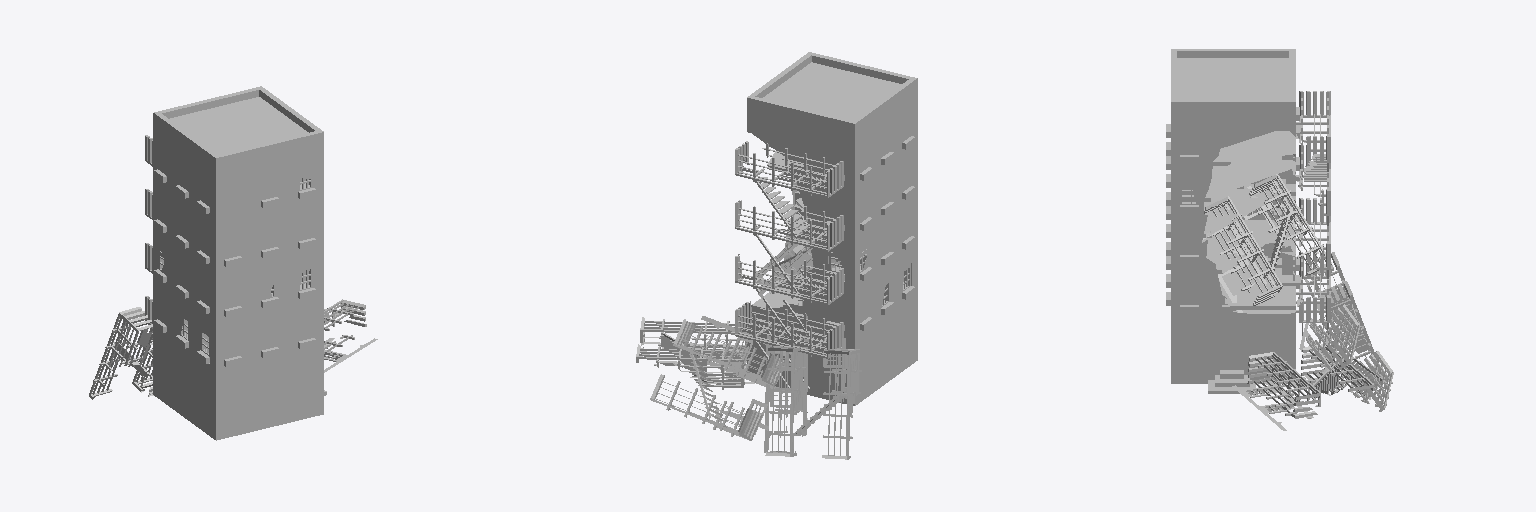
The model's file is Building 1.obj.
3 renders of one model, left to right at view 1: azimuth 30°, elevation 25°; view 2: azimuth 150°, elevation 25°; view 3: azimuth 270°, elevation 25°, orthographic.
Visible parts, largest first — view 1: Cube.002_Cube.009; view 2: Cube.002_Cube.009; view 3: Cube.002_Cube.009.
Part boxes in pixels (x1,y1,x2,y2): Cube.002_Cube.009: (89, 86, 377, 440); Cube.002_Cube.009: (636, 52, 917, 459); Cube.002_Cube.009: (1166, 49, 1393, 430).
Size of the model in its own units: 4.58 by 5.68 by 3.65.